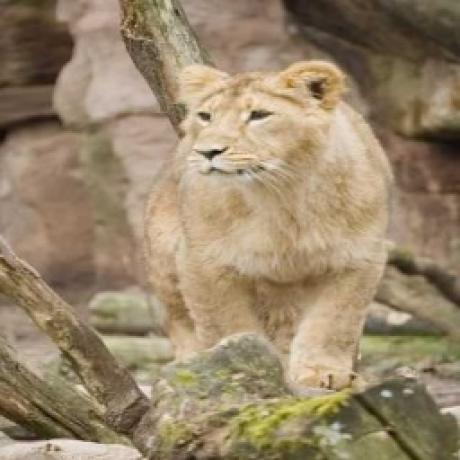Lion: (90, 56, 398, 393)
